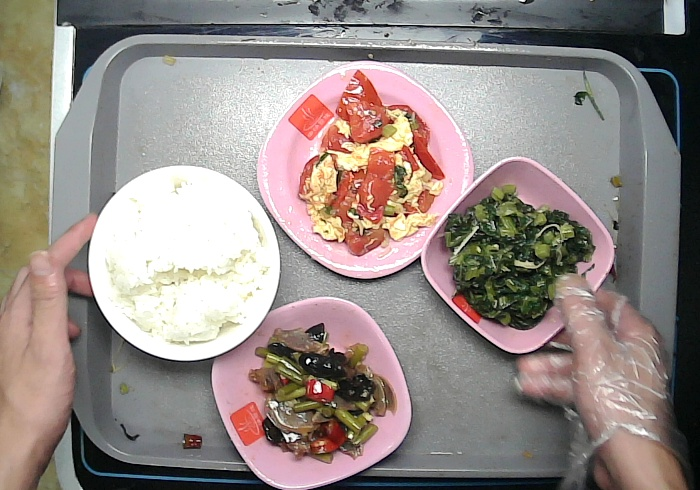SHKJ-Fan_Wan: (87, 164, 278, 360)
SHKJ-Fen_Se_Cai_Die: (211, 297, 411, 490)
SHKJ-Fen_Se_Si_Fang_Cai_Die: (256, 61, 473, 278)
SHKJ-Fen_Se_Xiao_Fang_Die: (421, 156, 613, 355)
